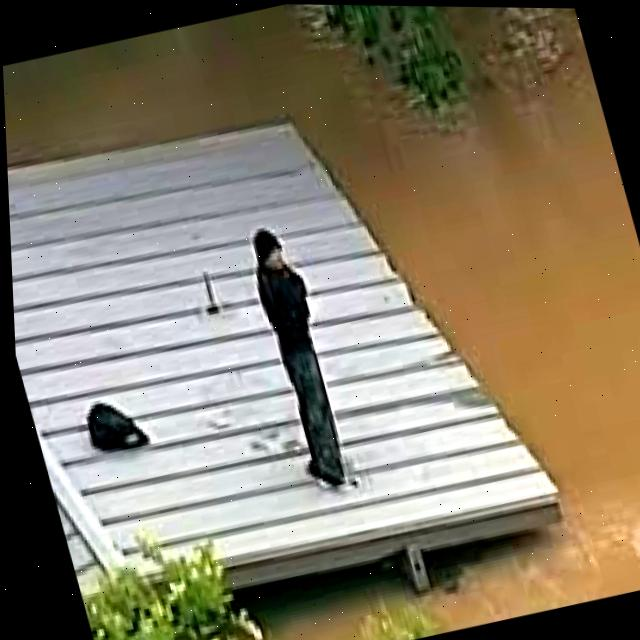civilian: (233, 207, 370, 498)
